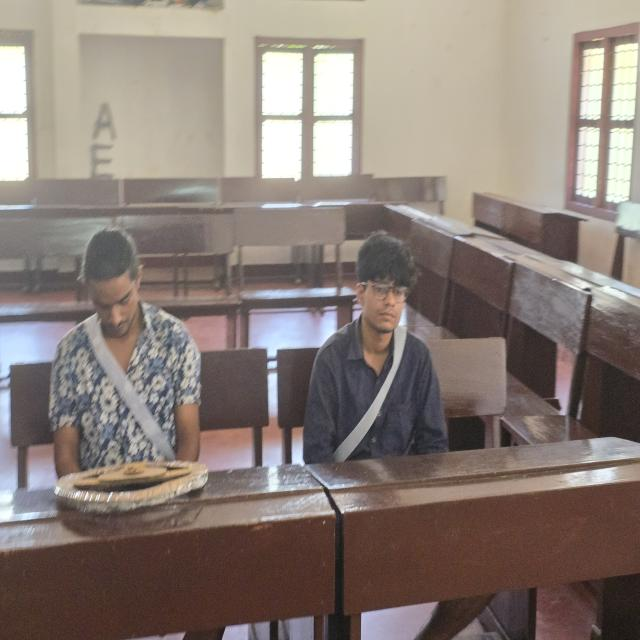seatbelt: (82, 311, 179, 468), (331, 324, 411, 464)
